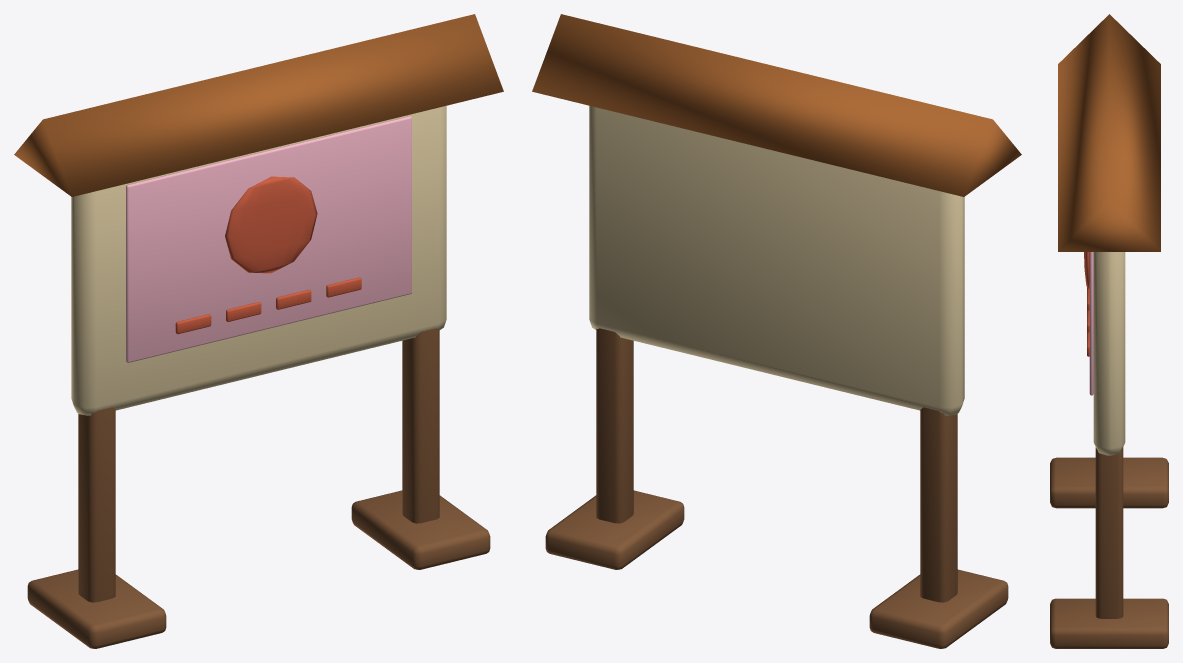
File: event-sign.glb
3 views of the same model, side by side, from view 1: azimuth 30°, elevation 25°; view 2: azimuth 150°, elevation 25°; view 3: azimuth 270°, elevation 25° (orthographic). The views are drawn at different scales.
Parts seen in each view (by area): view 1: sign; view 2: sign; view 3: sign.
Boxes of the visible parts, <box> form: sign: <box>14,14,503,648</box>; sign: <box>532,14,1021,648</box>; sign: <box>1050,14,1168,648</box>.
Size of the model in its own units: 1.12 by 1.27 by 0.3.
